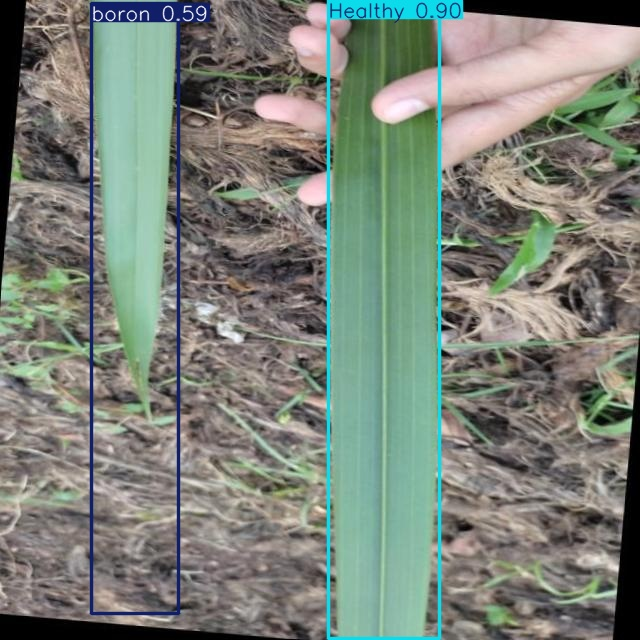Healthy: (329, 1, 439, 638)
nitrogen: (91, 3, 179, 613)
